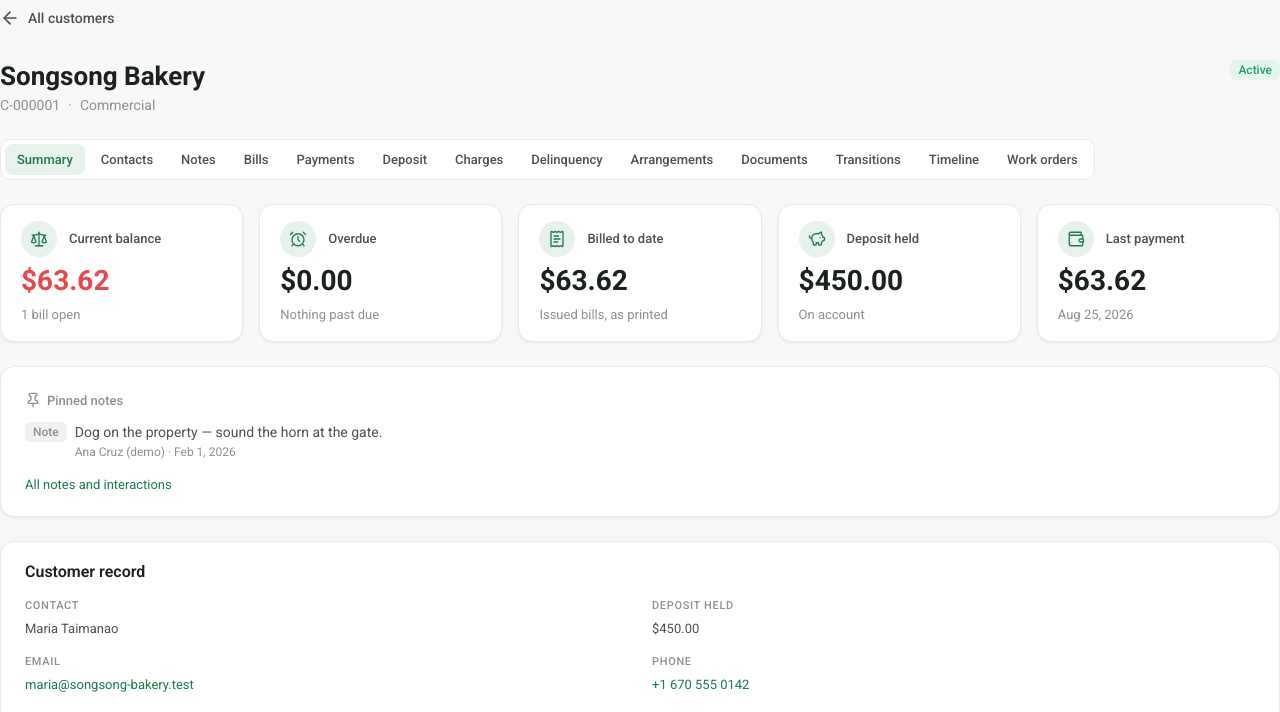
Test: CustomerDetailPage › lists the payments as a sortable table on its own tab
The width and height of the screenshot is (1280, 712).
Expected: the heading "Songsong Bakery" is shown, [0,60,205,92]
What coordinates should you click on to do the following:
click the link "Payments"
I would click on:
 (326, 159)
Its box is [296,152,355,166].
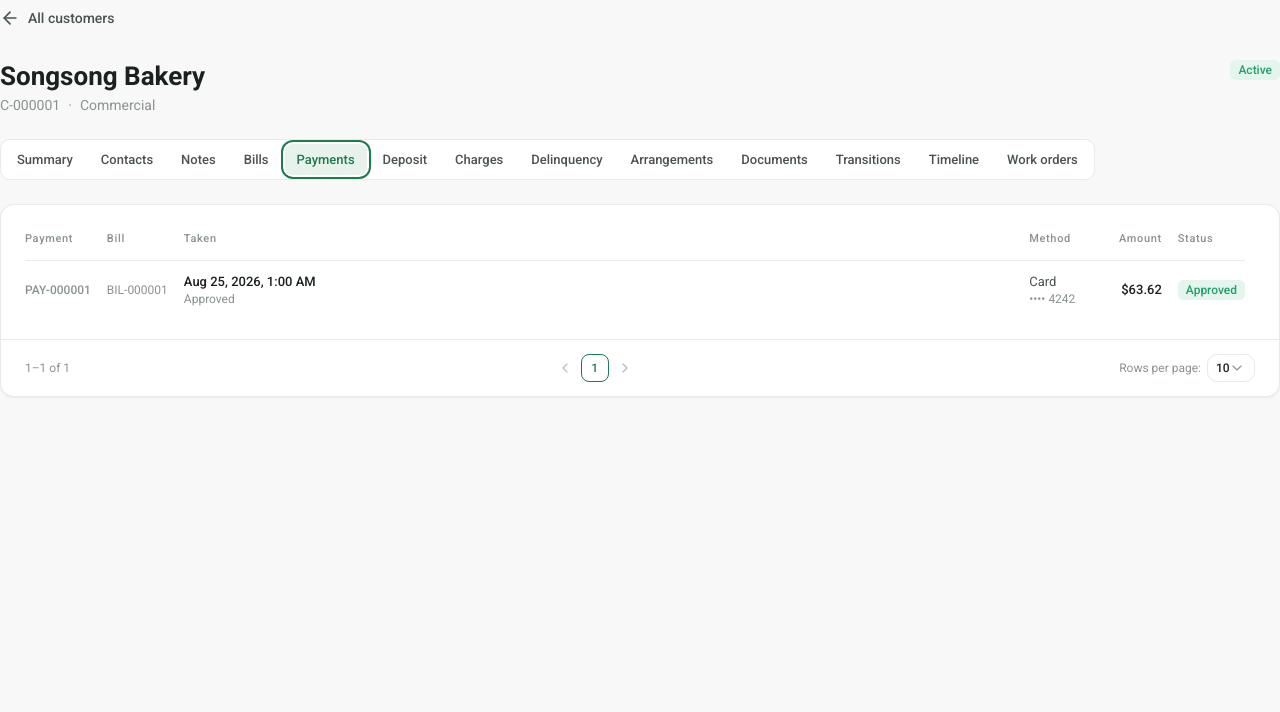
Result: the text "PAY-000001" is shown at [25,282,91,296]
Result: the text "Card" is shown at [1029,274,1056,288]
Result: the button "Amount" is shown at [1099,229,1166,249]
